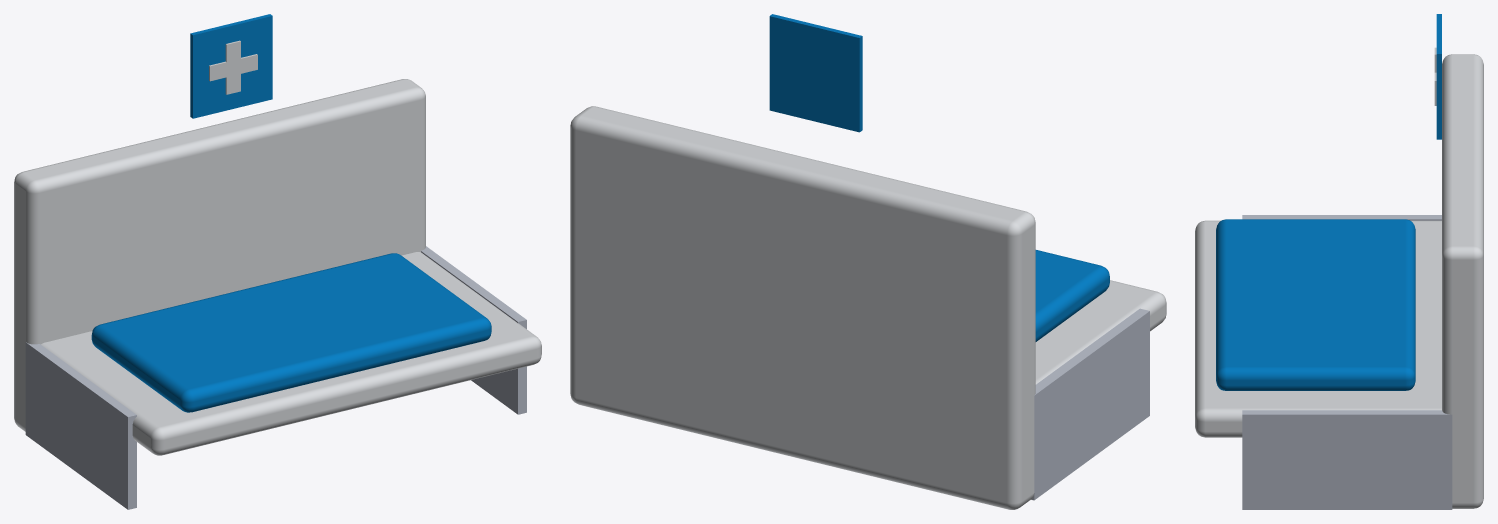
Rendered from ame-006.glb.
The picture shows the model from 3 angles, left to right: view 1: azimuth 30°, elevation 25°; view 2: azimuth 150°, elevation 25°; view 3: azimuth 270°, elevation 25°; orthographic projection. The views are drawn at different scales.
Visible parts, largest first — view 1: white, safety_blue, steel; view 2: white, safety_blue, steel; view 3: safety_blue, white, steel.
Boxes of the visible parts, left/top/right/bottom form: white: left=14, top=40, right=541, bottom=455; safety_blue: left=91, top=14, right=491, bottom=412; steel: left=25, top=246, right=526, bottom=509; white: left=570, top=106, right=1166, bottom=509; safety_blue: left=769, top=14, right=1109, bottom=341; steel: left=1031, top=308, right=1149, bottom=500; safety_blue: left=1216, top=14, right=1441, bottom=390; white: left=1195, top=47, right=1483, bottom=508; steel: left=1242, top=215, right=1452, bottom=509.
Size of the model in its own units: 0.9 by 0.795 by 0.55.
